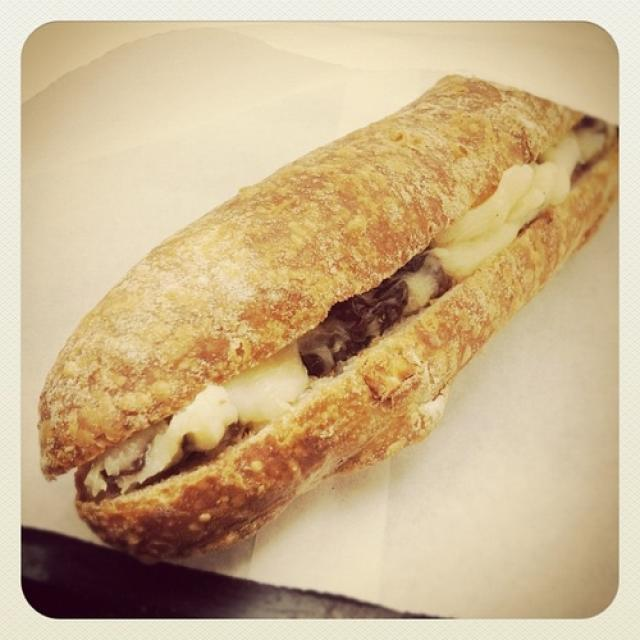Bread: (22, 35, 610, 550)
